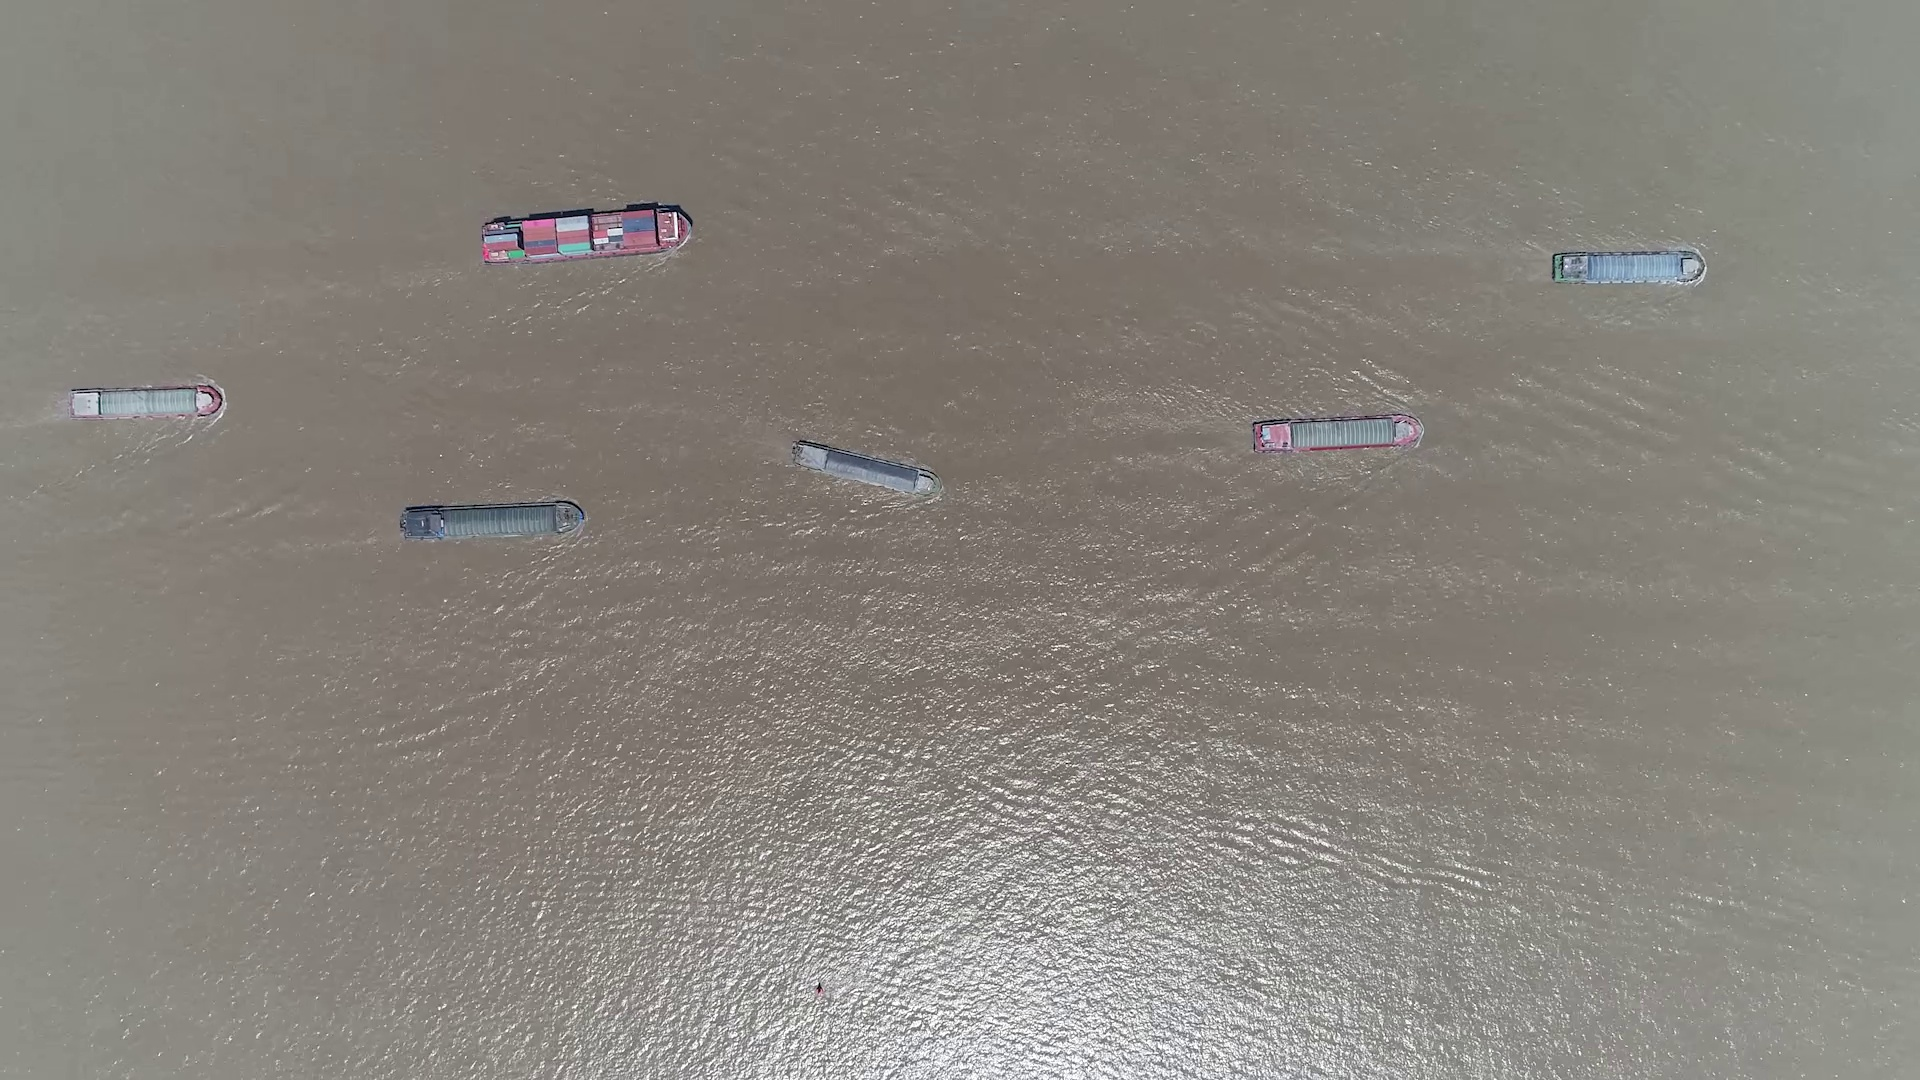ship: (480, 207, 692, 265), (789, 438, 939, 497), (400, 501, 583, 541), (1254, 414, 1424, 454), (67, 385, 222, 419), (1551, 251, 1704, 284)
